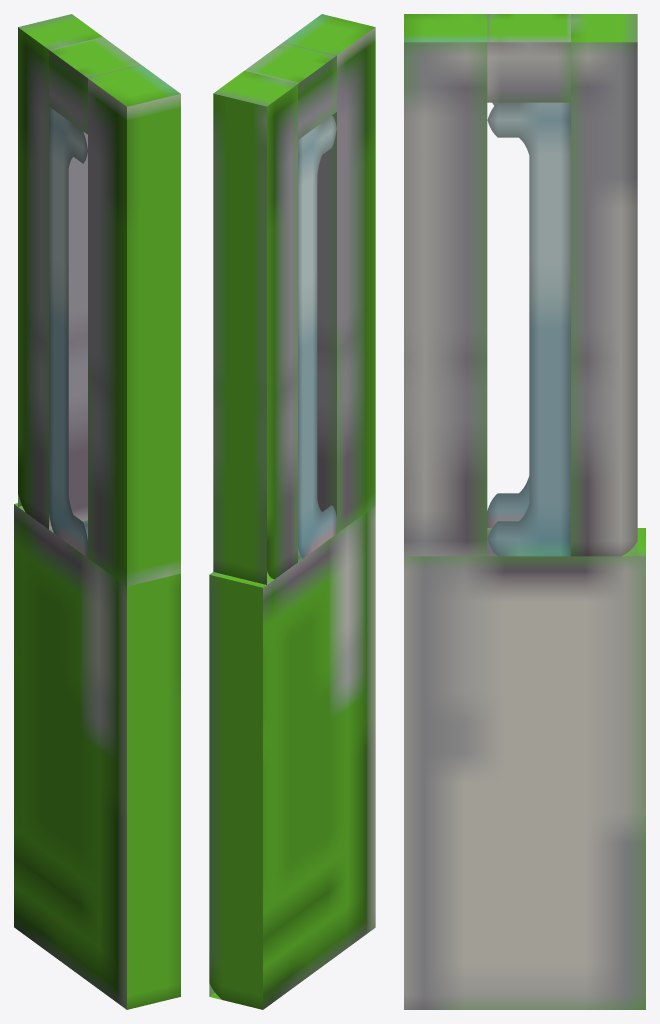
The model's file is end_face_door.obj.
3 views of the same model, side by side, from view 1: azimuth 30°, elevation 25°; view 2: azimuth 150°, elevation 25°; view 3: azimuth 270°, elevation 25° (orthographic). The views are drawn at different scales.
Visible parts, largest first — view 1: cube; view 2: cube; view 3: cube.
Boxes of the visible parts, box(x1,y1,x2,y2) form: cube: box(14, 14, 180, 1009); cube: box(209, 14, 375, 1009); cube: box(404, 14, 645, 1009).
Bounding box in the file's own units: 0.125 × 2 × 0.4531.
